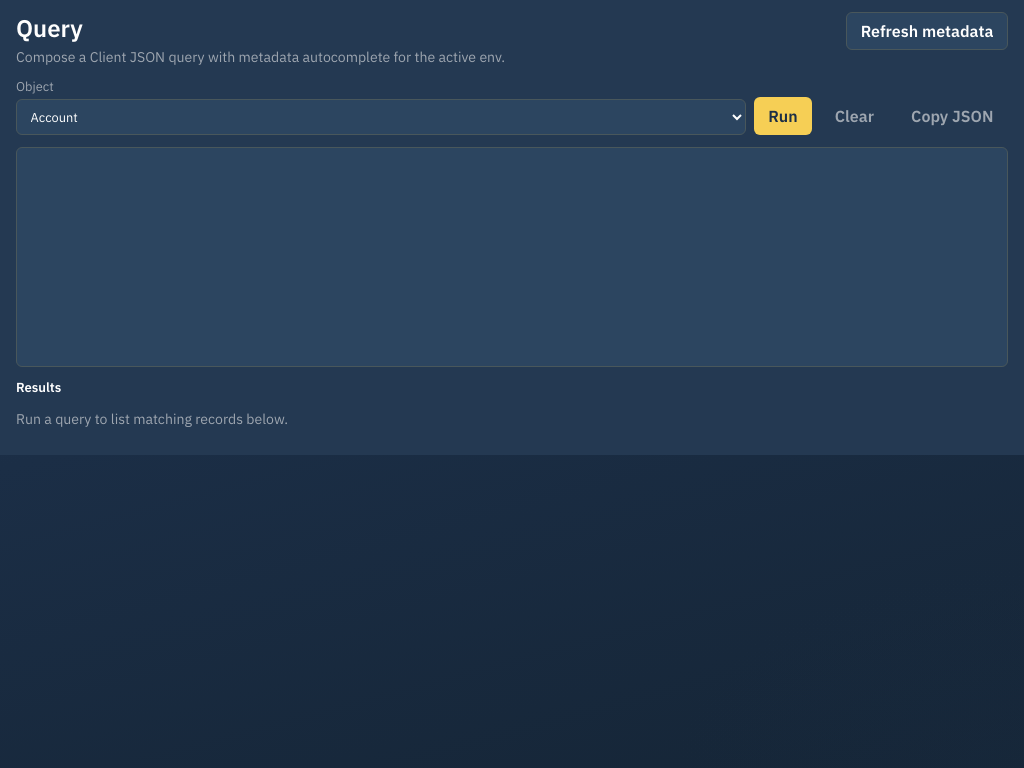
Test: QueryPanel › surfaces invalid JSON errors
Expected: the dropdown with test id "query-object-select" is shown, x1=16 y1=99 x2=746 y2=135
Click the button "Run": (783,116) x1=754 y1=97 x2=812 y2=135
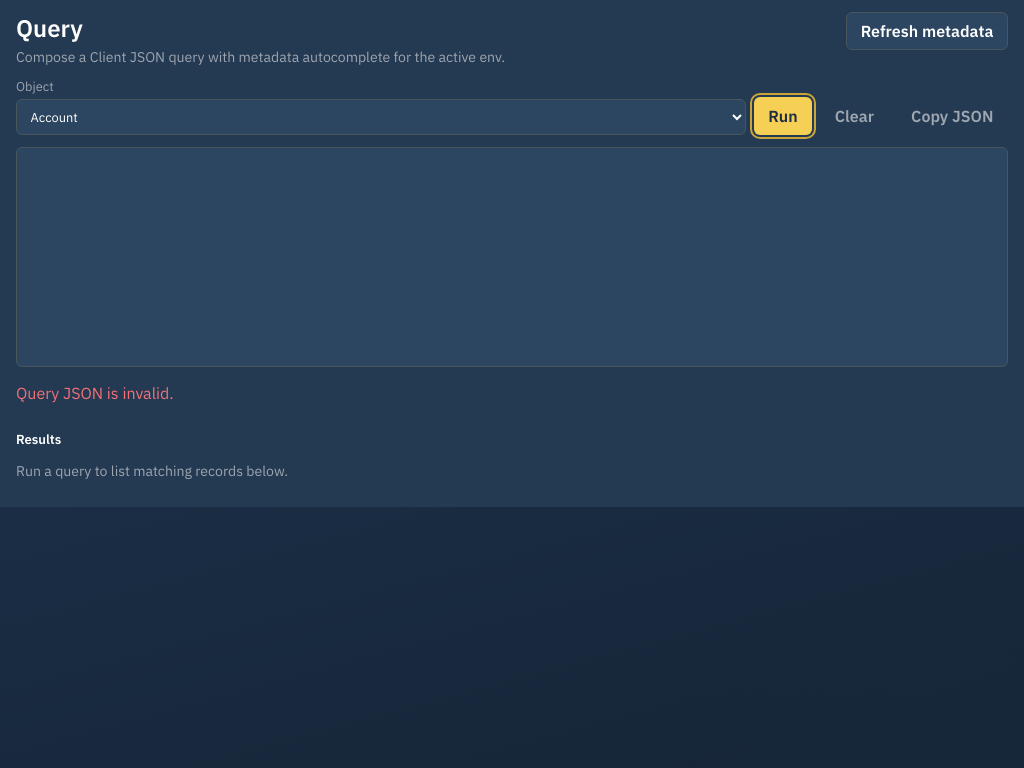
Now the text "Query JSON is invalid." is shown, box x1=16 y1=383 x2=174 y2=403
